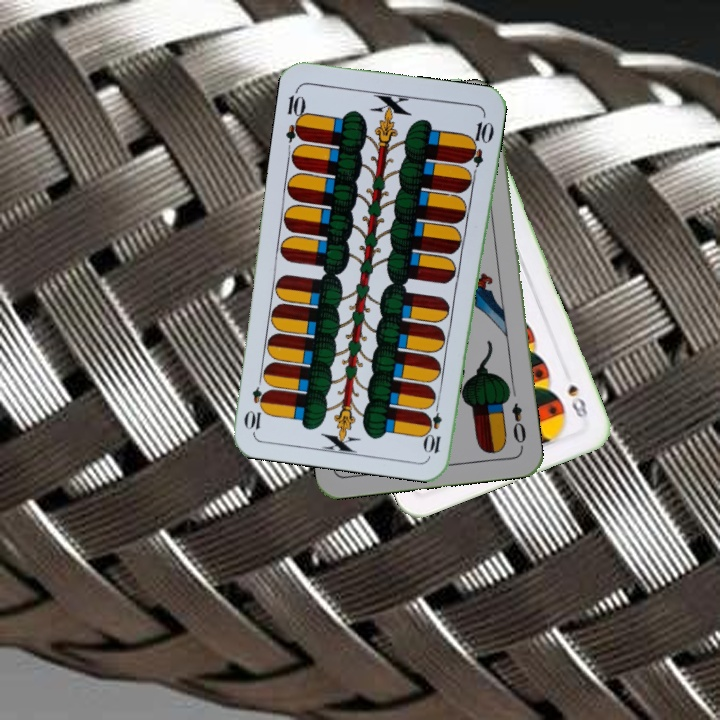E10: (282, 85, 309, 144), (423, 397, 445, 456)
EO: (508, 399, 529, 451)
S8: (563, 379, 591, 421)
